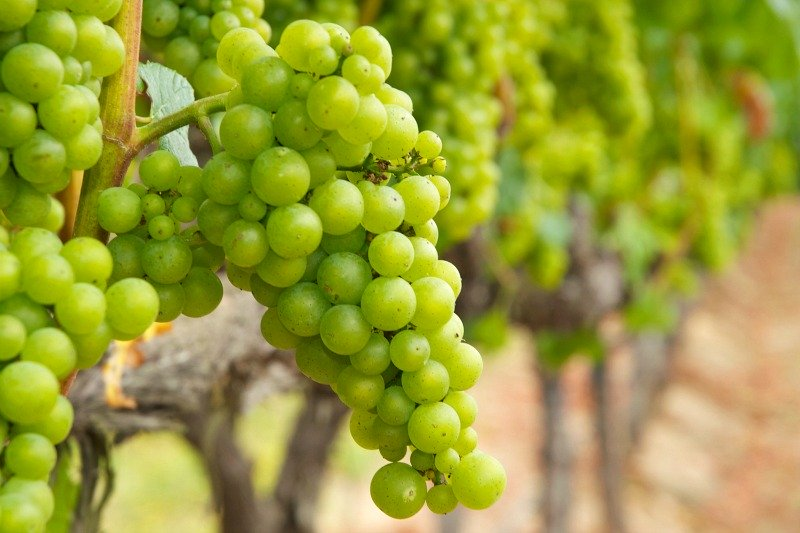Grape: (188, 25, 507, 526), (1, 6, 160, 521)
